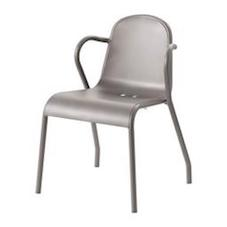chair: (6, 7, 208, 218)
